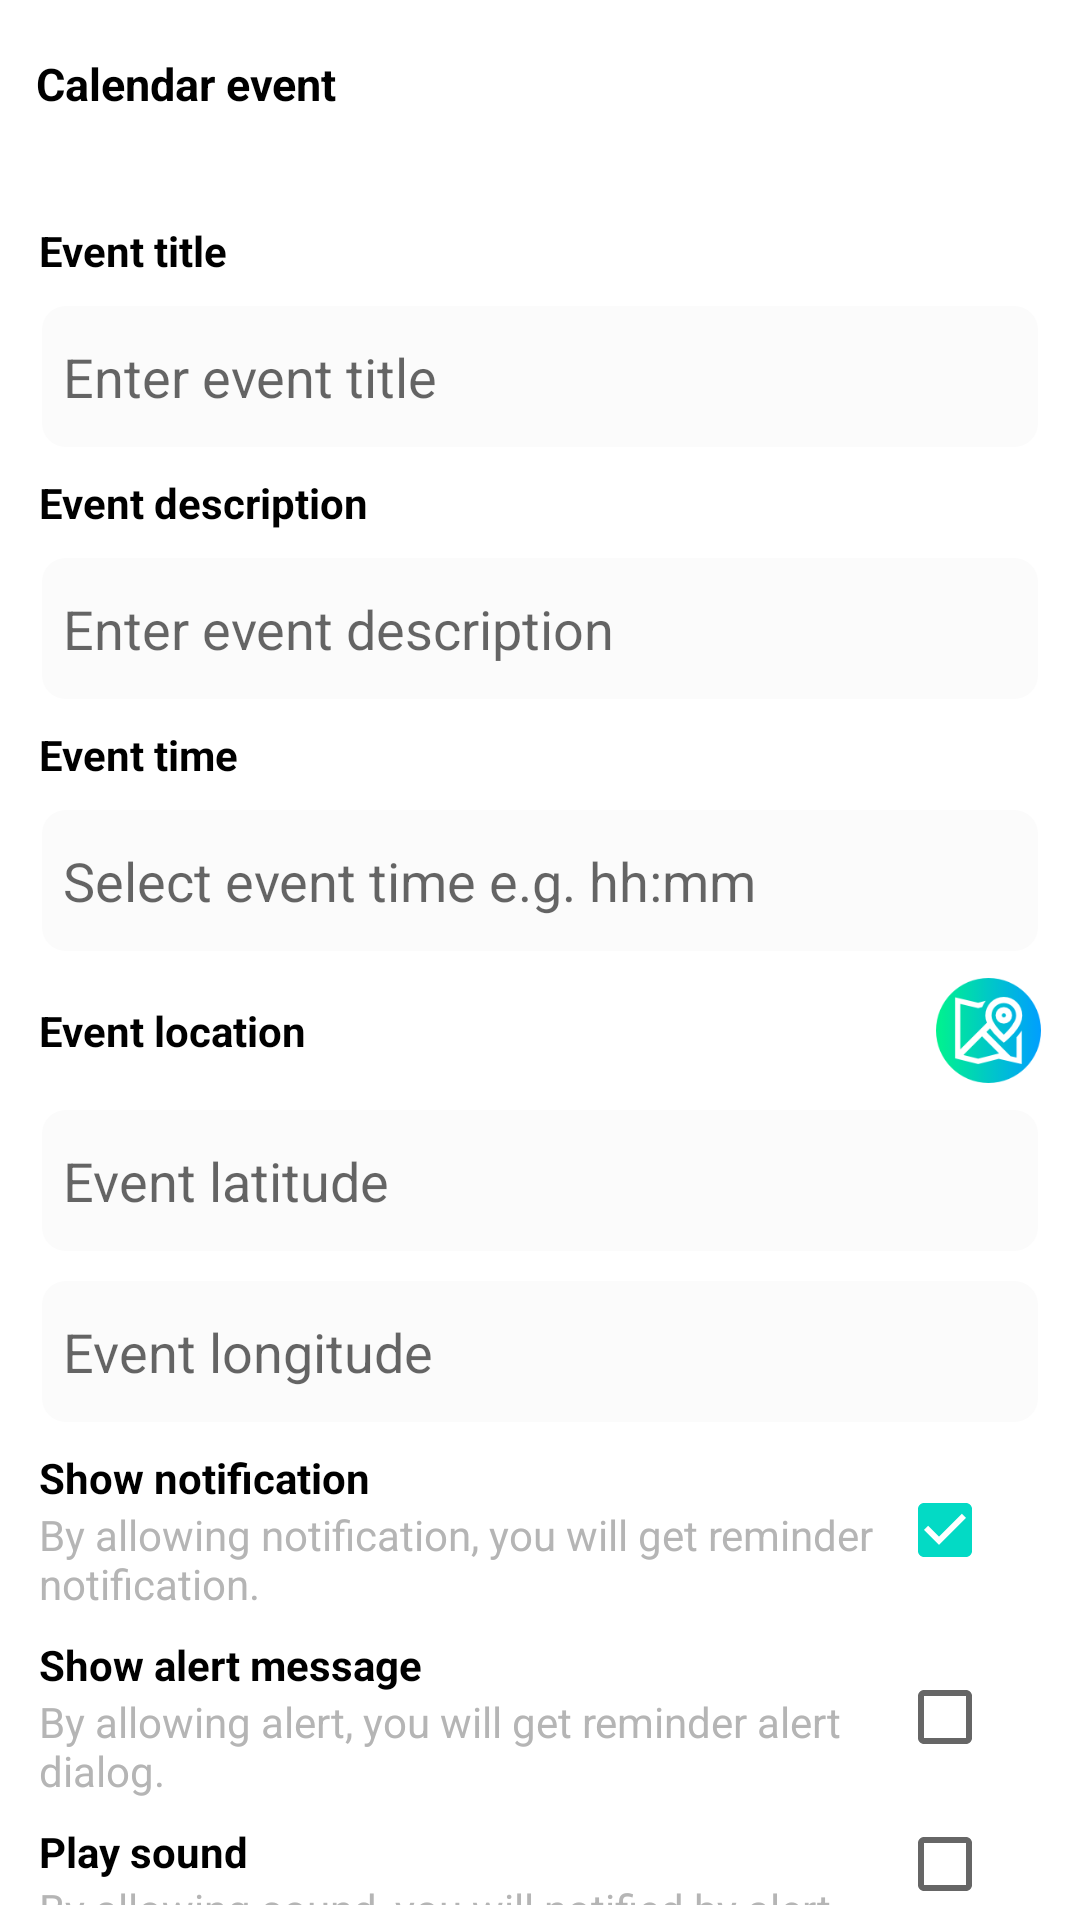

Icons on this 1080 x 1920 Android screen, each with its box as (x1, y1, x2, y2):
select location: (936, 978, 1041, 1083)
